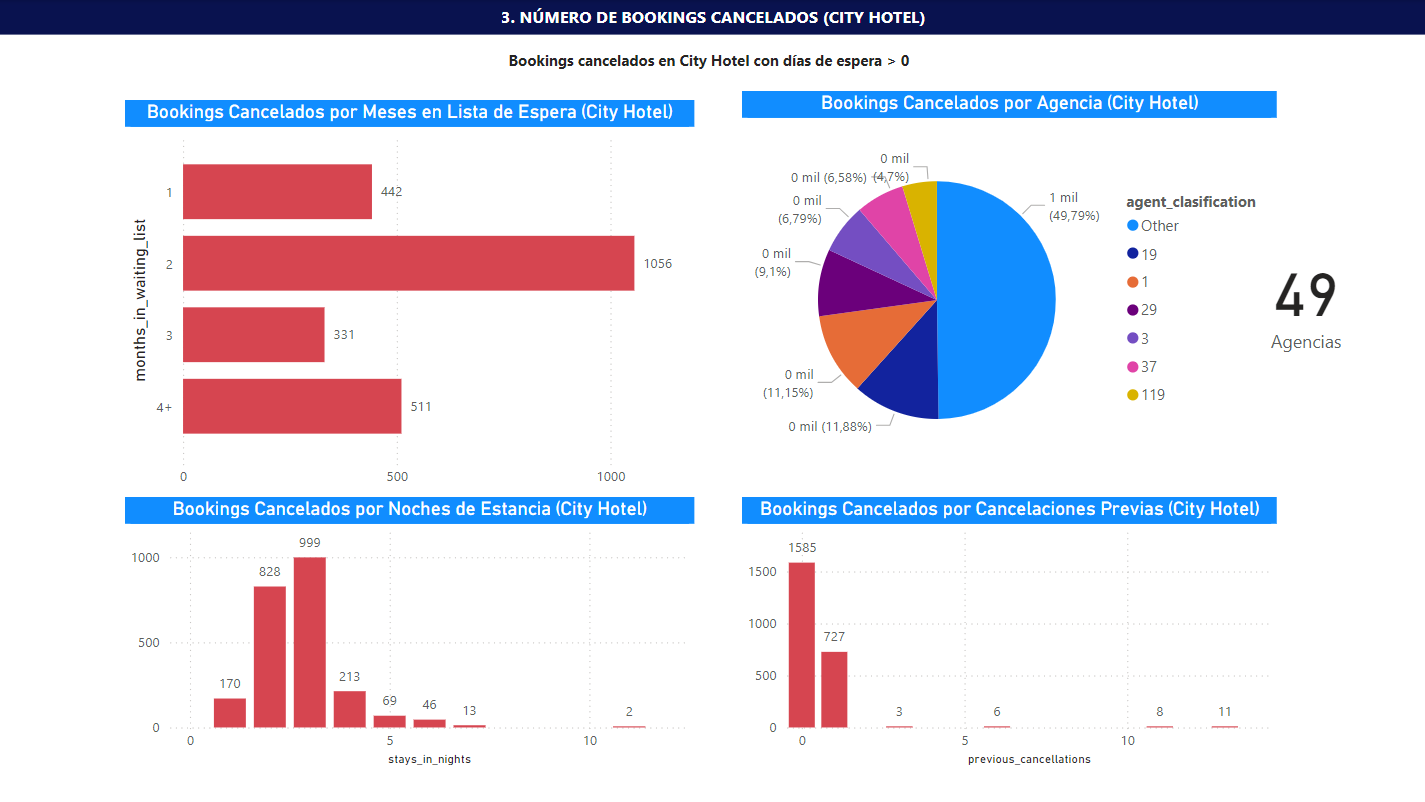

This screenshot's page, from the dashboard's own definition file:
{"tool":"powerbi","page":{"name":"3. City Hotel","canvas":[1280,720],"ordinal":2},"visuals":[{"type":"card","fields":{"Values":["Count(hotel_bookings_v2.agent)"]},"box":[1061.4,206,218.6,122.7],"z":0},{"type":"barChart","title":"Bookings Cancelados por Meses en Lista de Espera (City Hotel)","fields":{"Category":["hotel_bookings_v2.months_in_waiting_list"],"Y":["hotel_bookings_v2.bookings"]},"box":[112.9,89.6,509.7,355.6],"z":1000},{"type":"textbox","box":[451.4,40.3,375.3,34.9],"z":2000},{"type":"columnChart","title":"Bookings Cancelados por Cancelaciones Previas (City Hotel)","fields":{"Y":["hotel_bookings_v2.bookings"],"Category":["hotel_bookings_v2.previous_cancellations"]},"box":[665.5,445.2,479.2,245.4],"z":3000},{"type":"textbox","box":[0,0,1279.7,31.3],"z":4000},{"type":"columnChart","title":"Bookings Cancelados por Noches de Estancia (City Hotel)","fields":{"Y":["hotel_bookings_v2.bookings"],"Category":["hotel_bookings_v2.stays_in_nights"]},"box":[112.9,445.2,509.7,245.4],"z":5000},{"type":"pieChart","title":"Bookings Cancelados por Agencia (City Hotel)","fields":{"Y":["hotel_bookings_v2.bookings"],"Category":["hotel_bookings_v2.agent_clasification"]},"box":[665.5,81.5,479.2,355.6],"z":6000}]}

Visuals, with their boxes in screenshot pixels (x1, y1, x2, y2), scaled from the page's 1280x720 canvas onto the 1425x802 screenshot:
card - Count(hotel_bookings_v2.agent): left=1182, top=229, right=1424, bottom=366
"Bookings Cancelados por Meses en Lista de Espera (City Hotel)" barChart: left=126, top=100, right=693, bottom=496
textbox: left=503, top=45, right=920, bottom=84
"Bookings Cancelados por Cancelaciones Previas (City Hotel)" columnChart: left=741, top=496, right=1274, bottom=769
textbox: left=0, top=0, right=1424, bottom=35
"Bookings Cancelados por Noches de Estancia (City Hotel)" columnChart: left=126, top=496, right=693, bottom=769
"Bookings Cancelados por Agencia (City Hotel)" pieChart: left=741, top=91, right=1274, bottom=487
